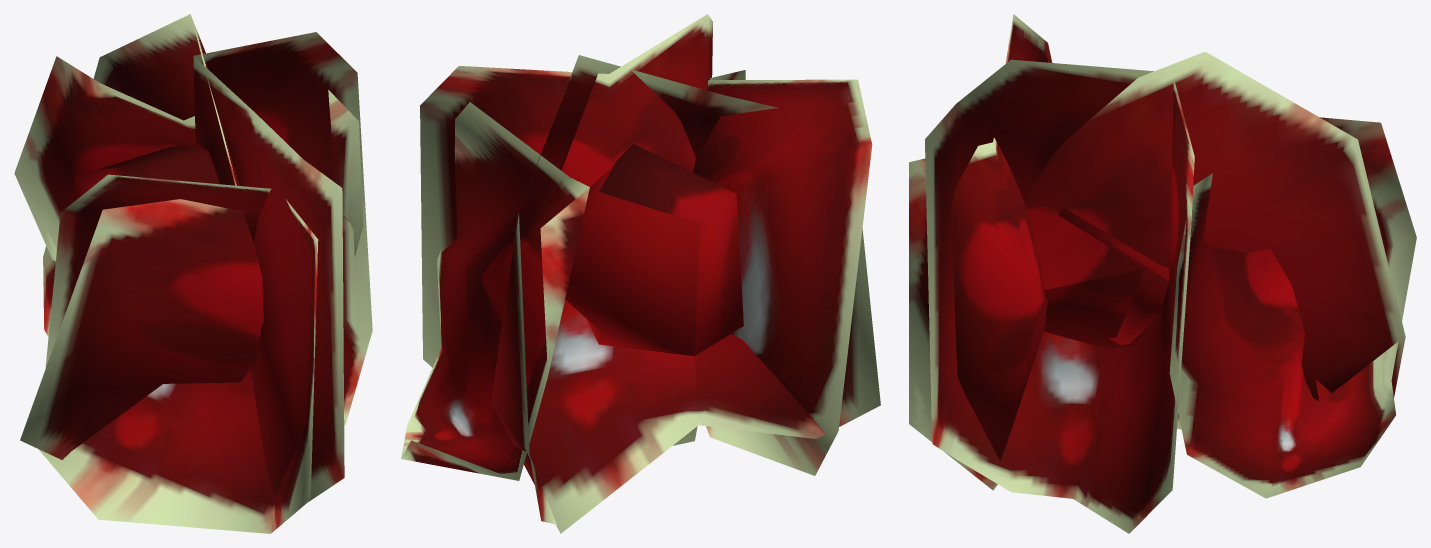
The model's file is Zombie_Broken_Normal_Head02_af4d5a93__Zombie_Broken_Green_0_bb717ba8_c1f257.obj.
3 views of the same model, side by side, from view 1: azimuth 30°, elevation 25°; view 2: azimuth 150°, elevation 25°; view 3: azimuth 270°, elevation 25° (orthographic). The views are drawn at different scales.
Size of the model in its own units: 0.7065 by 0.7457 by 0.7616.
1 material, 1 textured.
